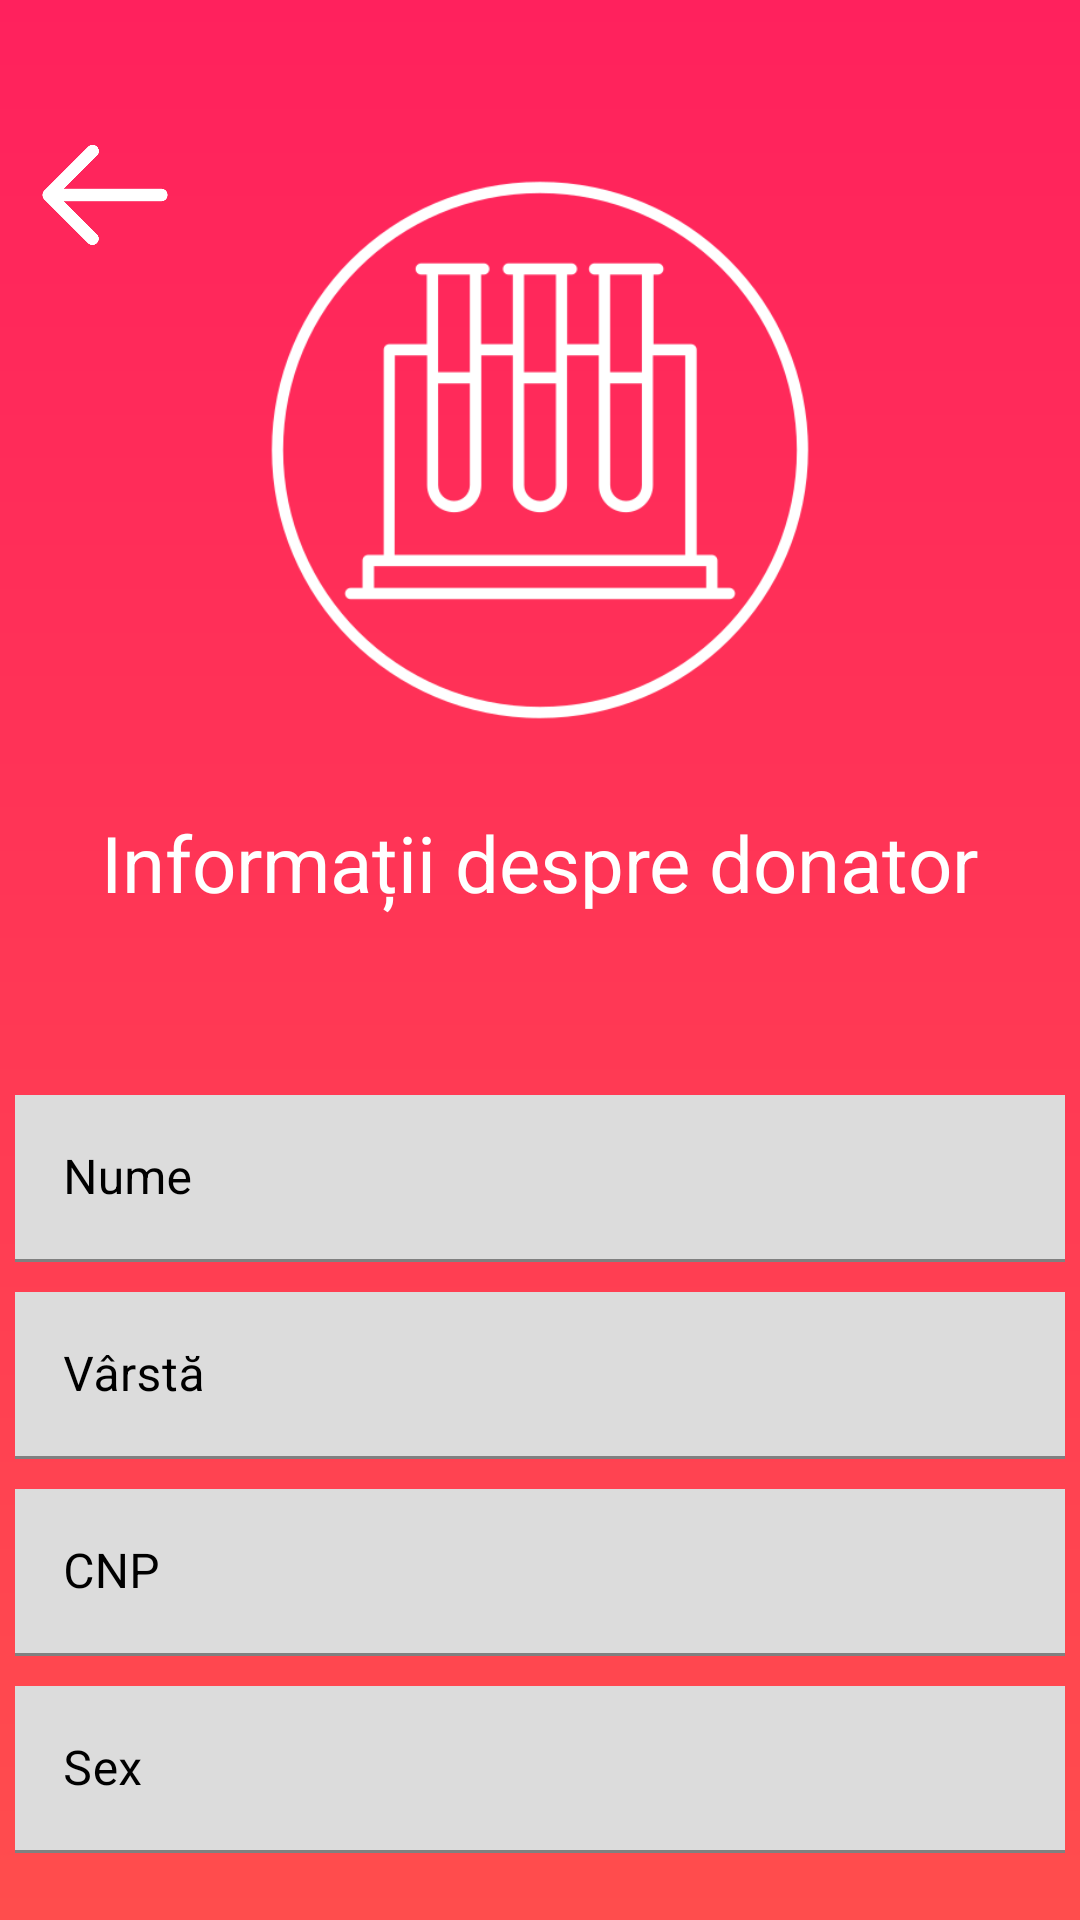

Icons on this 1080*1920 Android screen, each with its box as (x1, y1, x2, y2):
whiteback: (42, 145, 168, 245)
